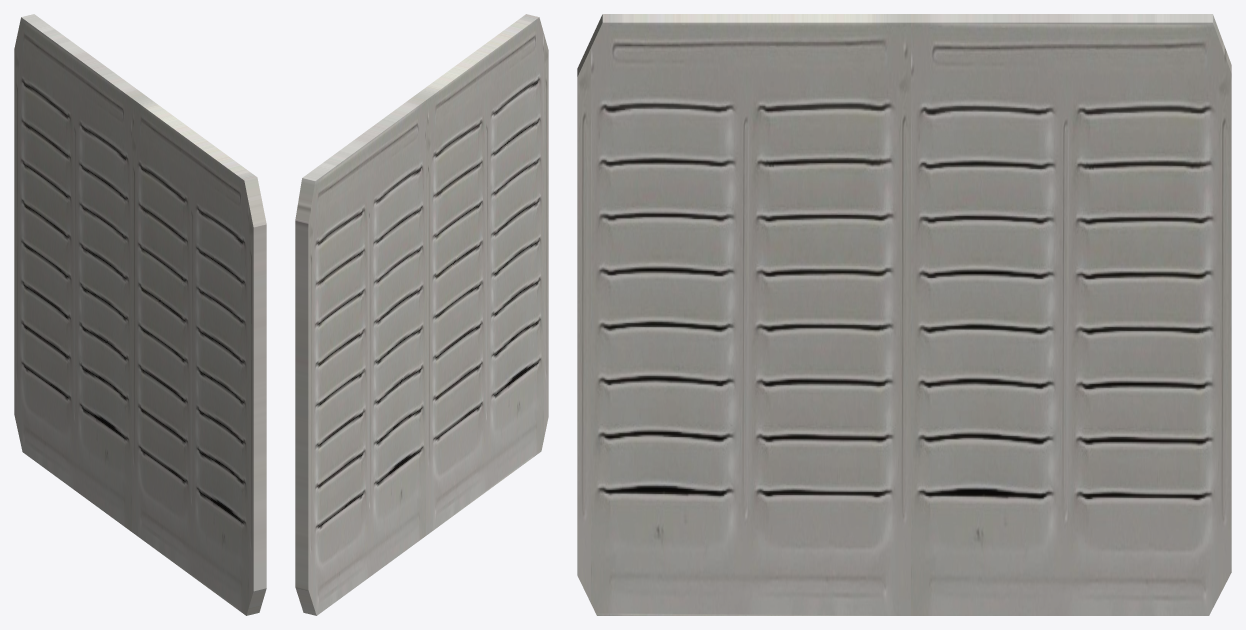
The model's file is Avent3.052cde03.gltf.
3 renders of one model, left to right at view 1: azimuth 30°, elevation 25°; view 2: azimuth 150°, elevation 25°; view 3: azimuth 270°, elevation 25°, orthographic. The views are drawn at different scales.
Parts seen in each view (by area): view 1: Plane; view 2: Plane; view 3: Plane.
Part boxes in pixels (x1,y1,x2,y2): Plane: [14, 14, 266, 615]; Plane: [295, 14, 548, 615]; Plane: [577, 14, 1231, 615].
Bounding box in the file's own units: 0.19 × 6 × 6.
1 material, 1 textured.
